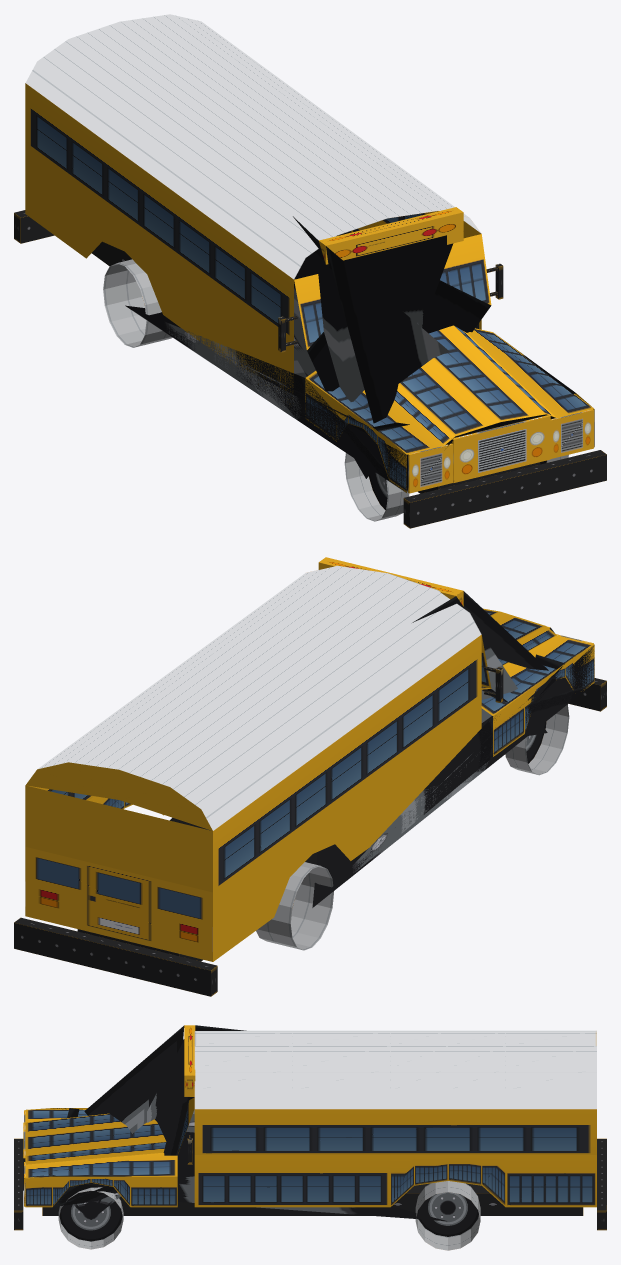
The model's file is school_bus_ps2.glb.
3 views of the same model, one above another, from view 1: azimuth 30°, elevation 25°; view 2: azimuth 150°, elevation 25°; view 3: azimuth 270°, elevation 25° (orthographic). The views are drawn at different scales.
Visible parts, largest first — view 1: SchoolBus; view 2: SchoolBus; view 3: SchoolBus.
Part boxes in pixels (<box>): SchoolBus: <box>14,14,606,528</box>; SchoolBus: <box>14,557,606,996</box>; SchoolBus: <box>14,1025,606,1250</box>.
Size of the model in its own units: 2.84 by 2.78 by 8.77.
Materials: 1 (1 with a texture image).
